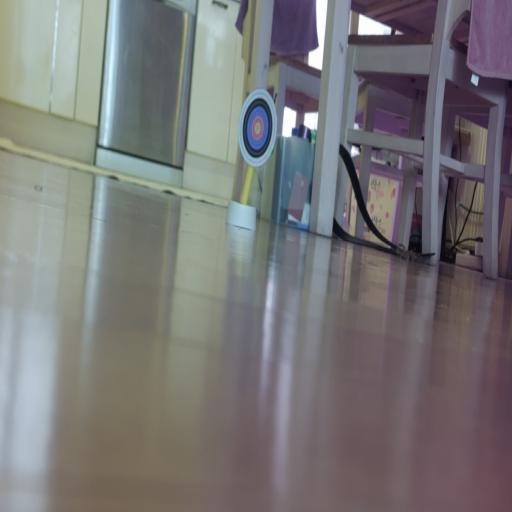target: (238, 90, 276, 166)
